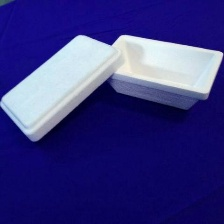foam_box: (0, 29, 127, 145), (103, 29, 223, 114)
